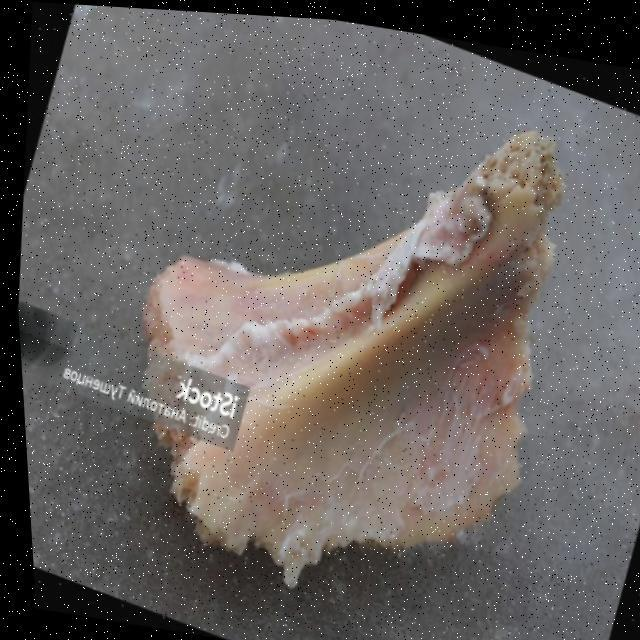Wet Waste: (68, 3, 624, 640)
